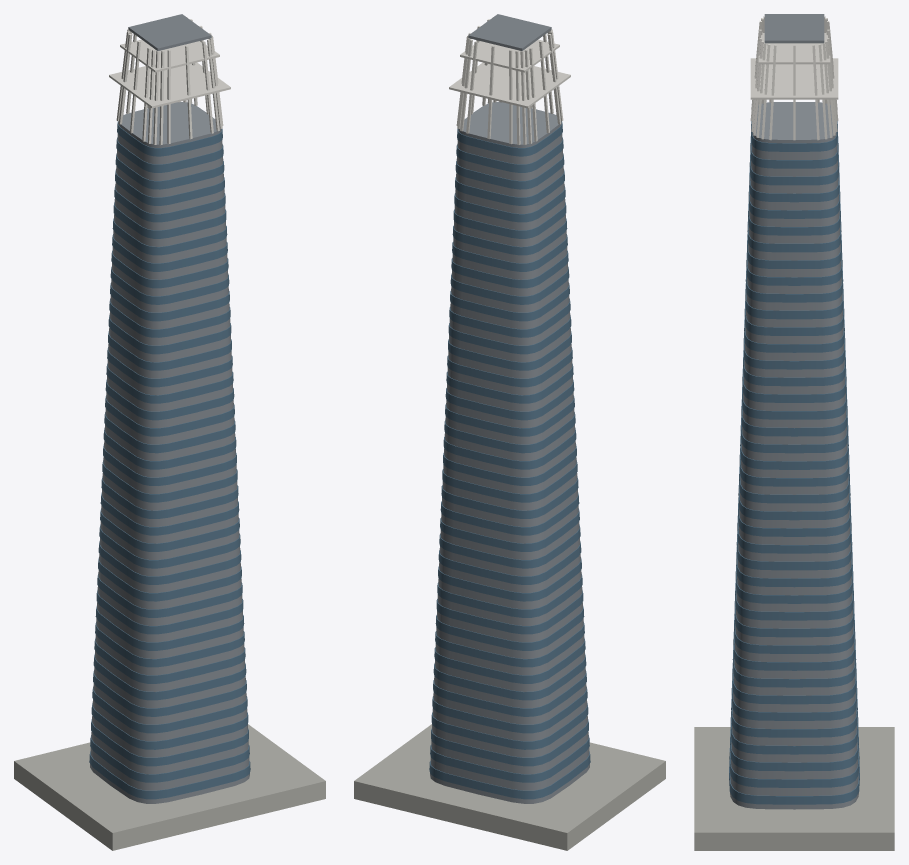
The model's file is desktop.glb.
The picture shows the model from 3 angles, left to right: view 1: azimuth 30°, elevation 25°; view 2: azimuth 150°, elevation 25°; view 3: azimuth 270°, elevation 25°; orthographic projection.
Visible parts, largest first — view 1: lm.crown-tower; view 2: lm.crown-tower; view 3: lm.crown-tower.
Part boxes in pixels (x1,y1,x2,y2): lm.crown-tower: (14, 14, 325, 850); lm.crown-tower: (354, 14, 665, 850); lm.crown-tower: (694, 14, 894, 850).
Size of the model in its own units: 100 by 339 by 80.
